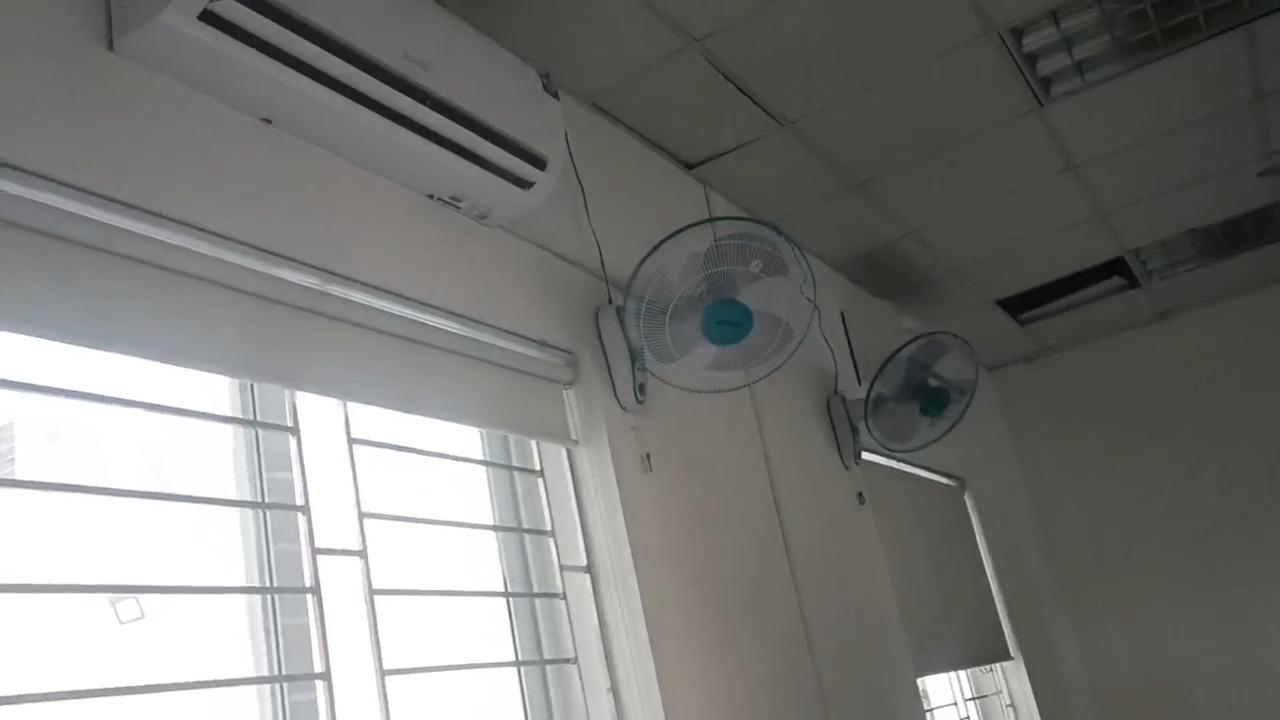fan: (595, 215, 825, 434), (823, 326, 996, 504)
